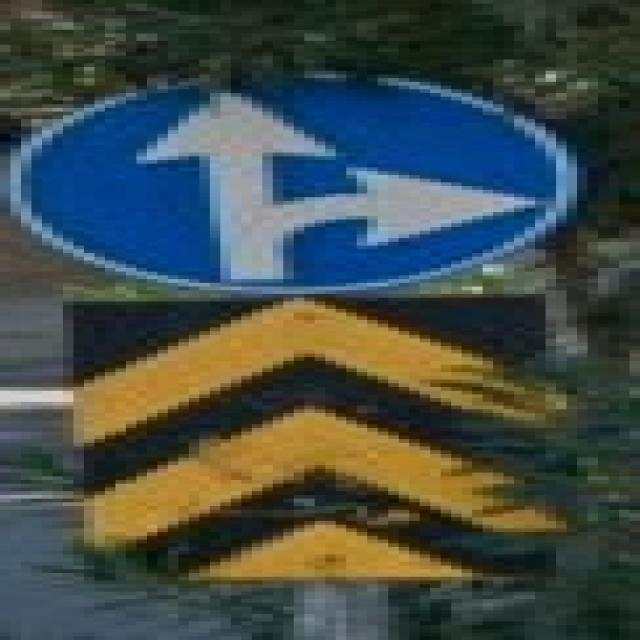Straight or Right: (28, 75, 542, 295)
